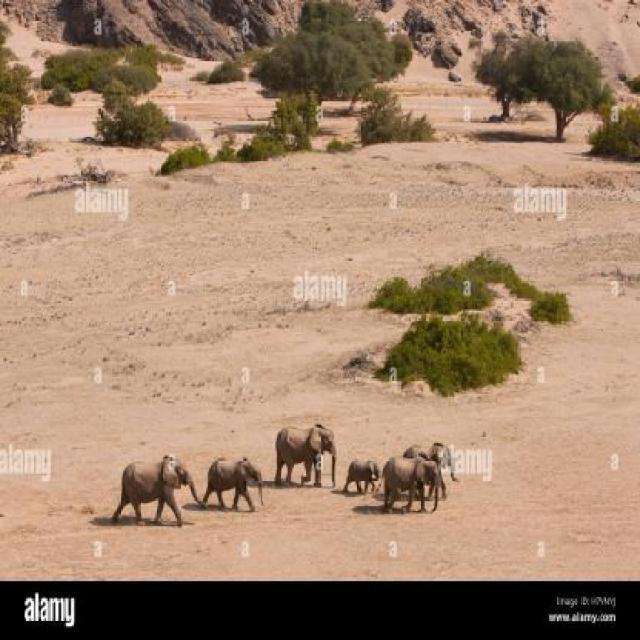elephant: (119, 442, 204, 529), (269, 415, 342, 488), (376, 458, 447, 522), (204, 446, 267, 506), (408, 440, 468, 486), (337, 442, 388, 488)
